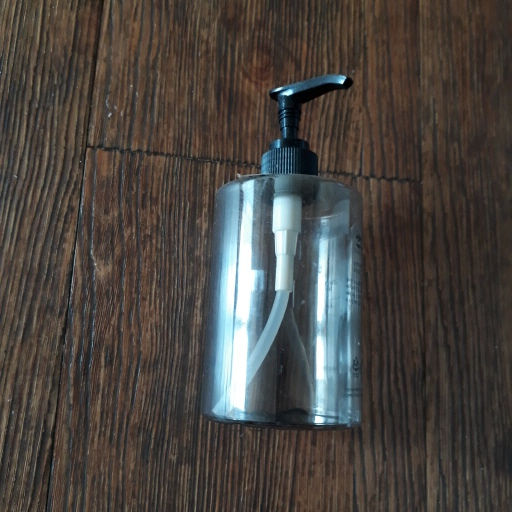Plastic_3: (195, 75, 369, 429)
